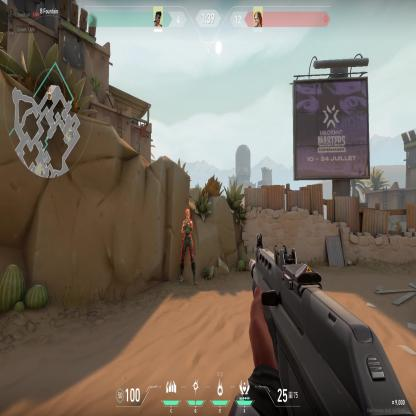enemy: (178, 206, 197, 286)
